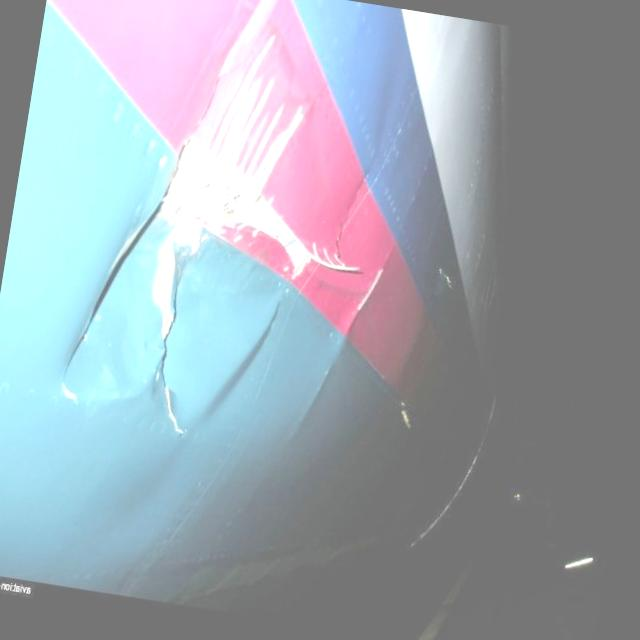crack: (129, 226, 217, 434)
dent: (193, 292, 280, 441), (96, 310, 146, 396), (114, 254, 156, 314)
